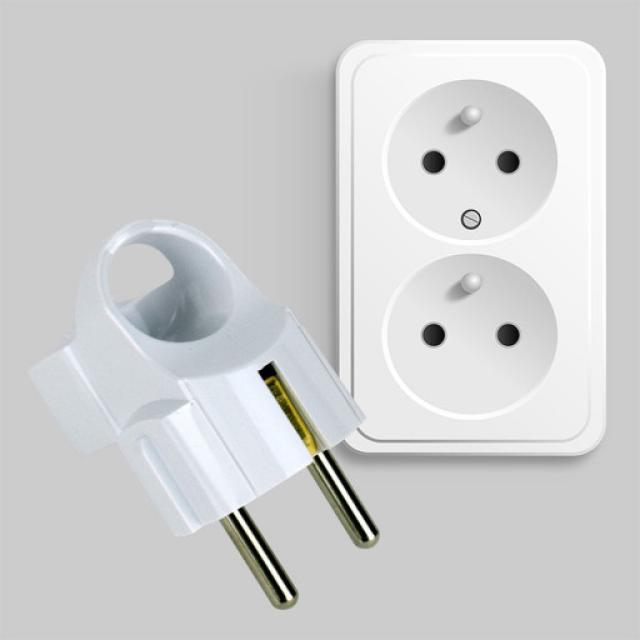typeb: (371, 46, 640, 498)
